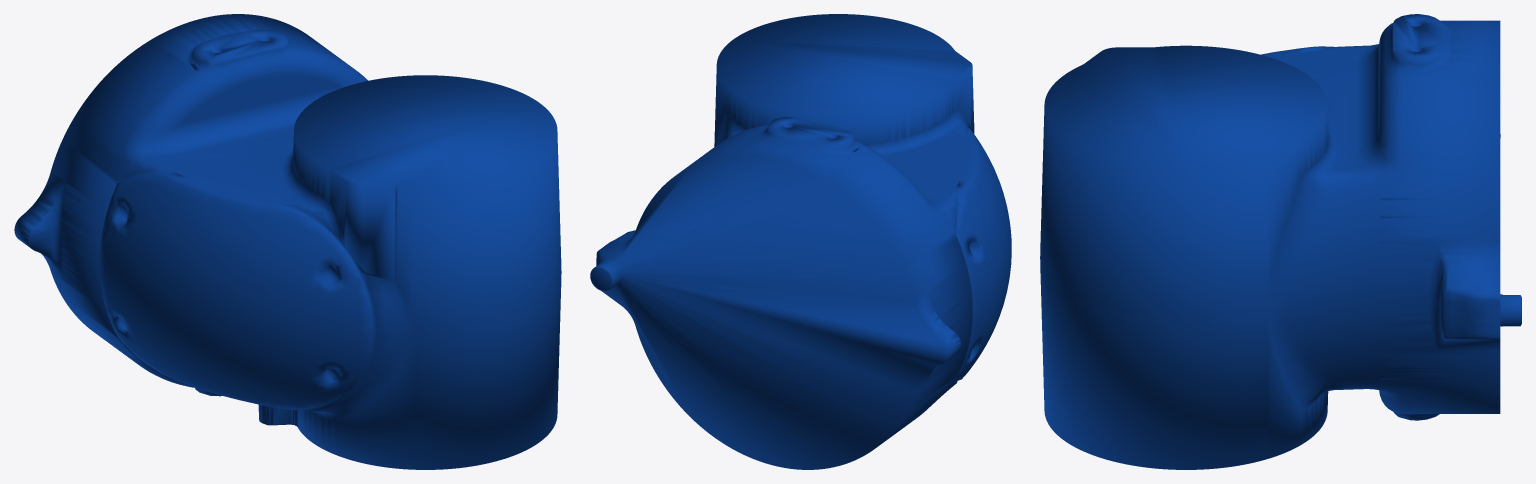
File: YaskawaGP7Link1.dae
3 renders of one model, left to right at view 1: azimuth 30°, elevation 25°; view 2: azimuth 150°, elevation 25°; view 3: azimuth 270°, elevation 25°, orthographic. The views are drawn at different scales.
Visible parts, largest first — view 1: YaskawaGP7Link1; view 2: YaskawaGP7Link1; view 3: YaskawaGP7Link1.
Boxes of the visible parts, left/top/right/bottom form: YaskawaGP7Link1: left=14, top=14, right=561, bottom=469; YaskawaGP7Link1: left=590, top=14, right=1011, bottom=469; YaskawaGP7Link1: left=1040, top=14, right=1521, bottom=469.
Size of the model in its own units: 0.1978 by 0.2007 by 0.166.
